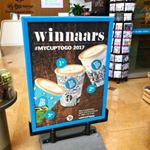cups: (52, 62, 88, 108)
